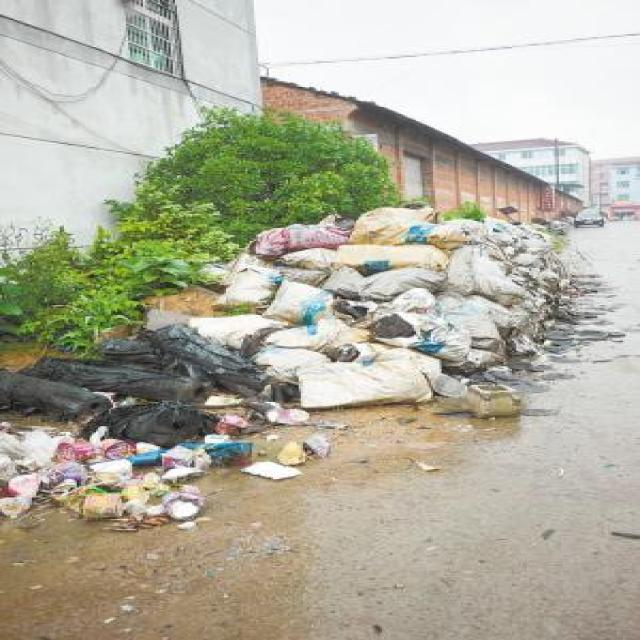garbage: (198, 212, 574, 410), (0, 321, 262, 527)
